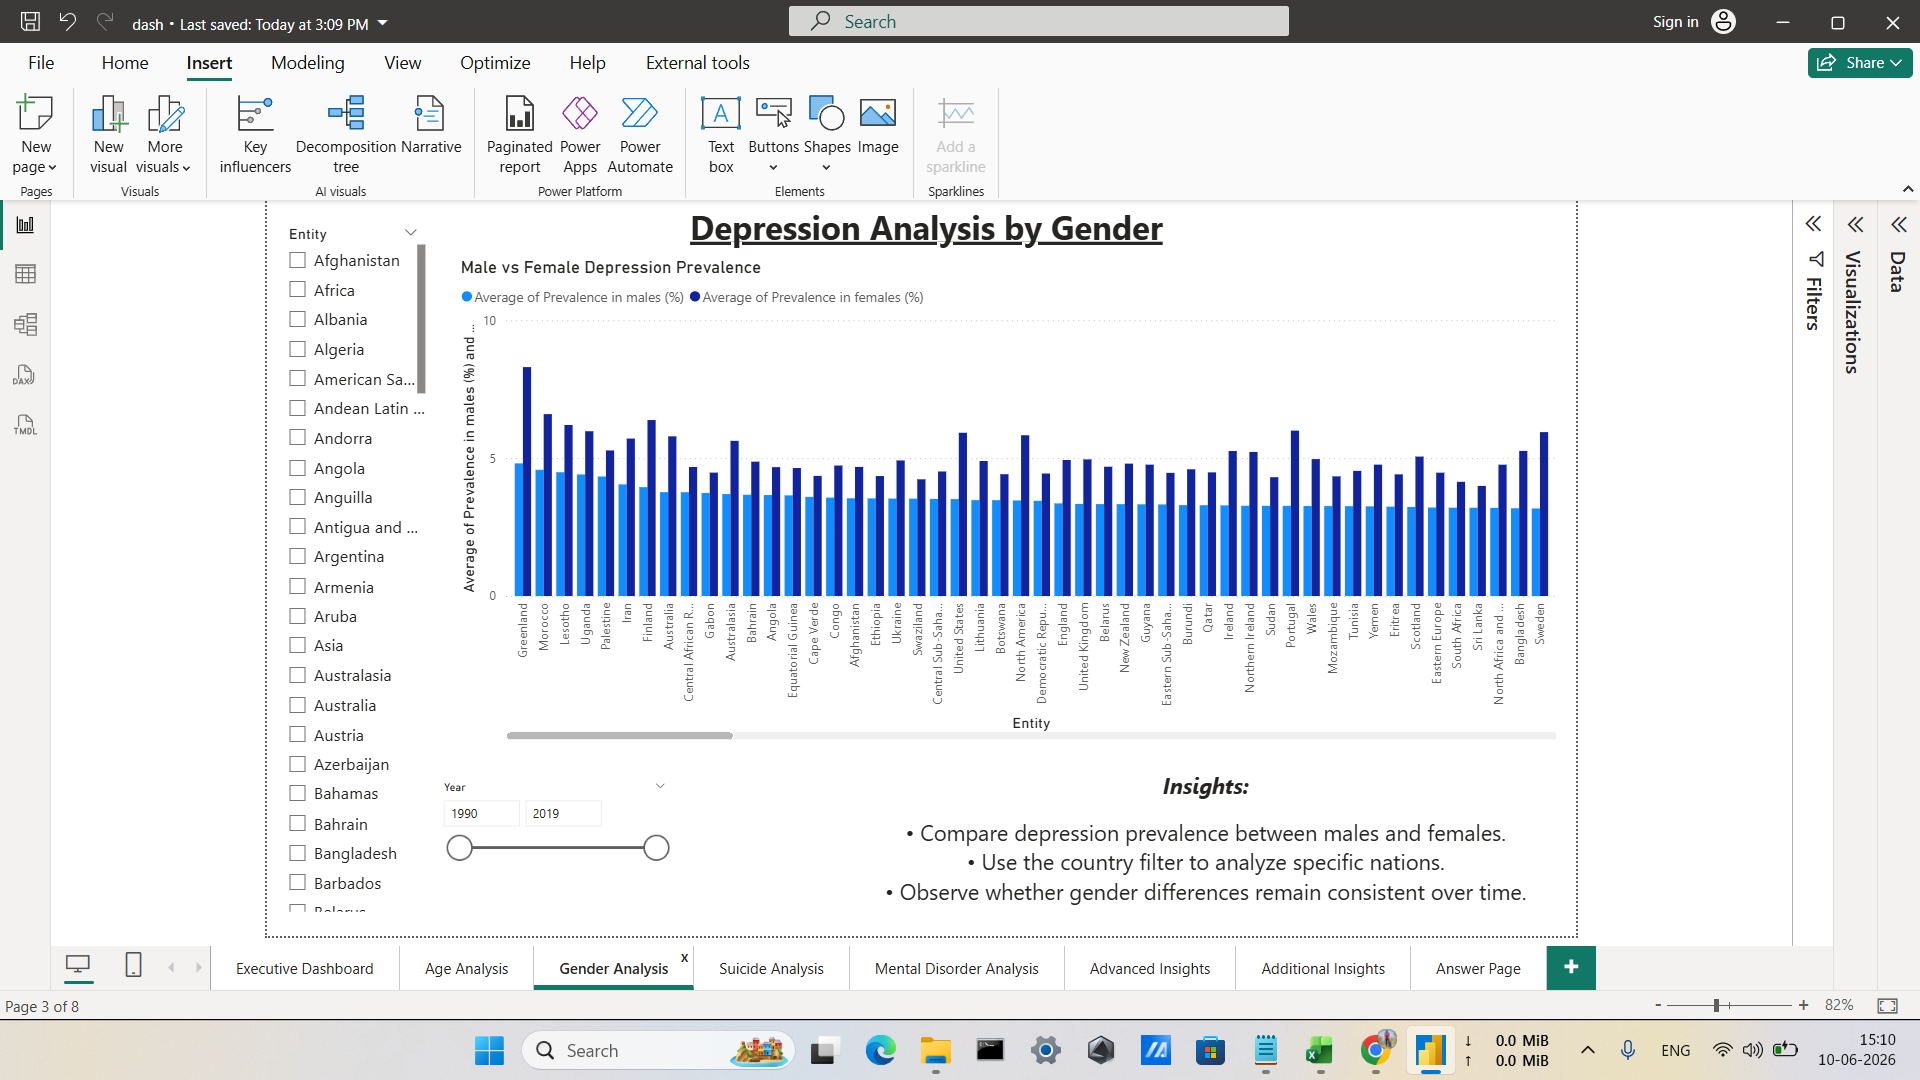

The dashboard page shown, as its layout file describes it:
{"tool":"powerbi","page":{"name":"Gender Analysis","canvas":[1280,720],"ordinal":2},"visuals":[{"type":"textbox","box":[9.8,0,1270.5,66],"z":0},{"type":"slicer","fields":{"Values":["prevalence-of-depression-males-.Entity"]},"box":[9.2,19.9,151.3,681.4],"z":1000},{"type":"clusteredColumnChart","title":"Male vs Female Depression Prevalence","fields":{"Category":["prevalence-of-depression-males-.Entity"],"Y":["Avg(prevalence-of-depression-males-.Prevalence in males (%))","Avg(prevalence-of-depression-males-.Prevalence in females (%))"]},"box":[184.6,55,1082.2,478.1],"z":2000},{"type":"textbox","box":[569.8,552.7,697,148],"z":3000},{"type":"slicer","fields":{"Values":["prevalence-of-depression-males-.Year"]},"box":[160.2,562.5,242.1,148],"z":4000}]}

Visuals, with their boxes on the page's 1280x720 design canvas (x1, y1, x2, y2). These are canvas units, not pixel positions in the 1920x1080 screenshot, which may show the page scaled, cropped or inside an application window:
textbox: bbox=[10, 0, 1280, 66]
slicer - prevalence-of-depression-males-.Entity: bbox=[9, 20, 160, 701]
"Male vs Female Depression Prevalence" clusteredColumnChart: bbox=[185, 55, 1267, 533]
textbox: bbox=[570, 553, 1267, 701]
slicer - prevalence-of-depression-males-.Year: bbox=[160, 562, 402, 710]
